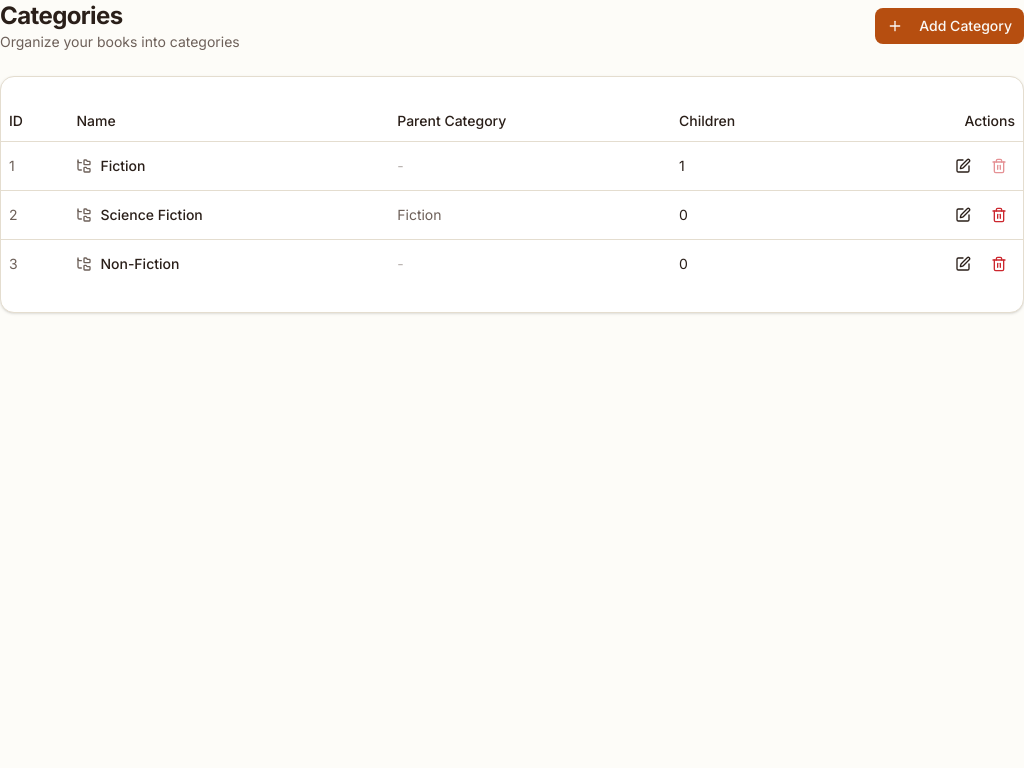
CategoriesListPage › should open delete dialog when delete button is clicked
The image size is (1024, 768).
Expected: the link "Non-Fiction" is shown, [76, 254, 179, 272]
Click the 7th button. click: click(999, 264)
box: [983, 248, 1015, 280]
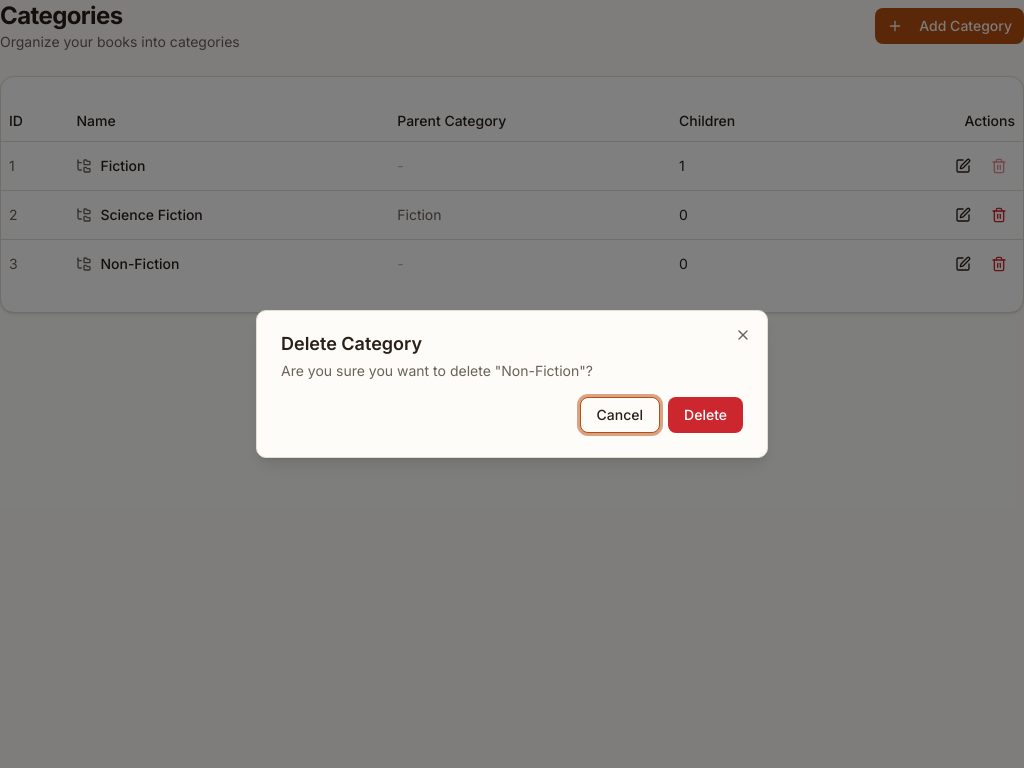
Expected: the heading "Delete Category" is shown, [281, 333, 422, 354]
